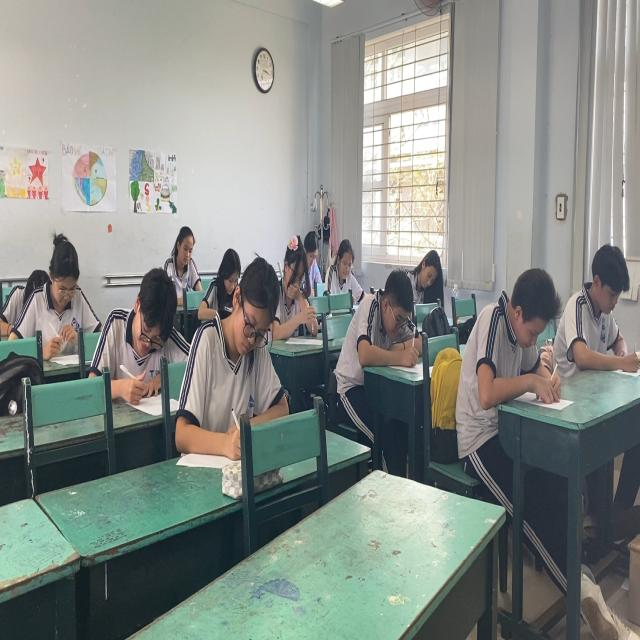not_cheating: (479, 255, 573, 407), (202, 255, 281, 421), (104, 263, 184, 411), (570, 228, 638, 372), (26, 234, 100, 338), (361, 270, 420, 366), (270, 231, 312, 359), (162, 224, 205, 294), (328, 241, 365, 296), (412, 252, 442, 303)
